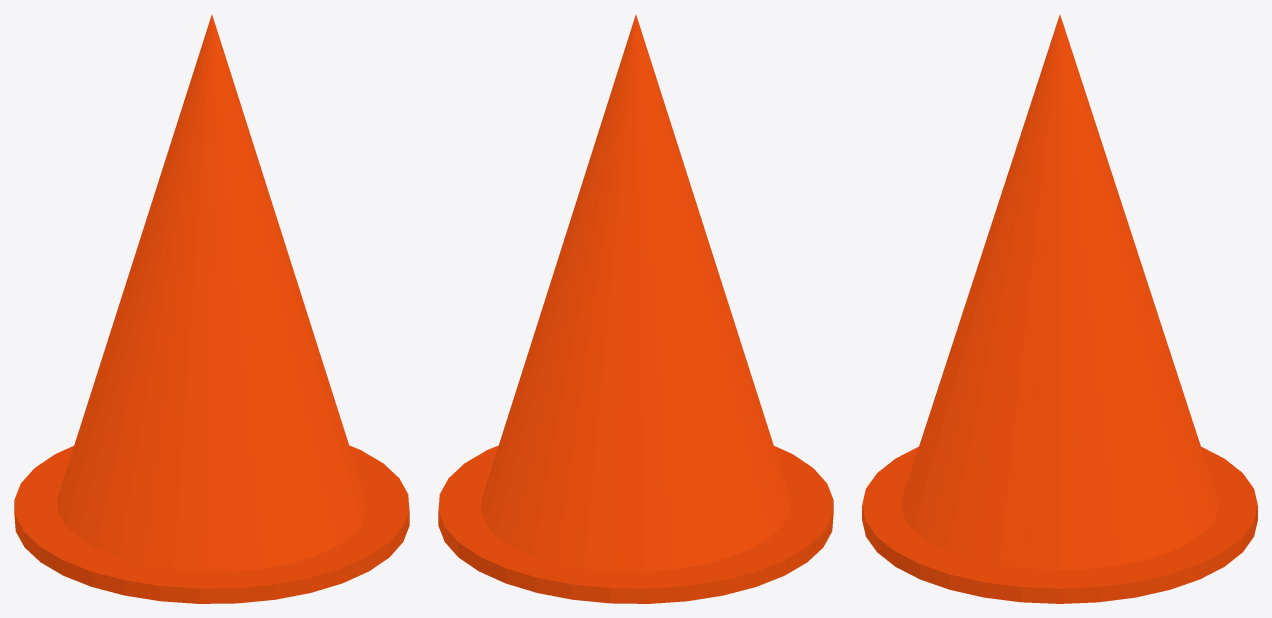
File: sf_traffic_cone.glb
3 renders of one model, left to right at view 1: azimuth 30°, elevation 25°; view 2: azimuth 150°, elevation 25°; view 3: azimuth 270°, elevation 25°, orthographic.
Parts seen in each view (by area): view 1: Koni, Silindir; view 2: Koni, Silindir; view 3: Koni, Silindir.
Part boxes in pixels (x1,y1,x2,y2): Koni: (57,15,366,571); Silindir: (14,445,409,603); Koni: (481,15,790,571); Silindir: (438,445,833,603); Koni: (901,15,1218,570); Silindir: (862,446,1257,603).
Bounding box in the file's own units: 0.34 × 0.48 × 0.34.
